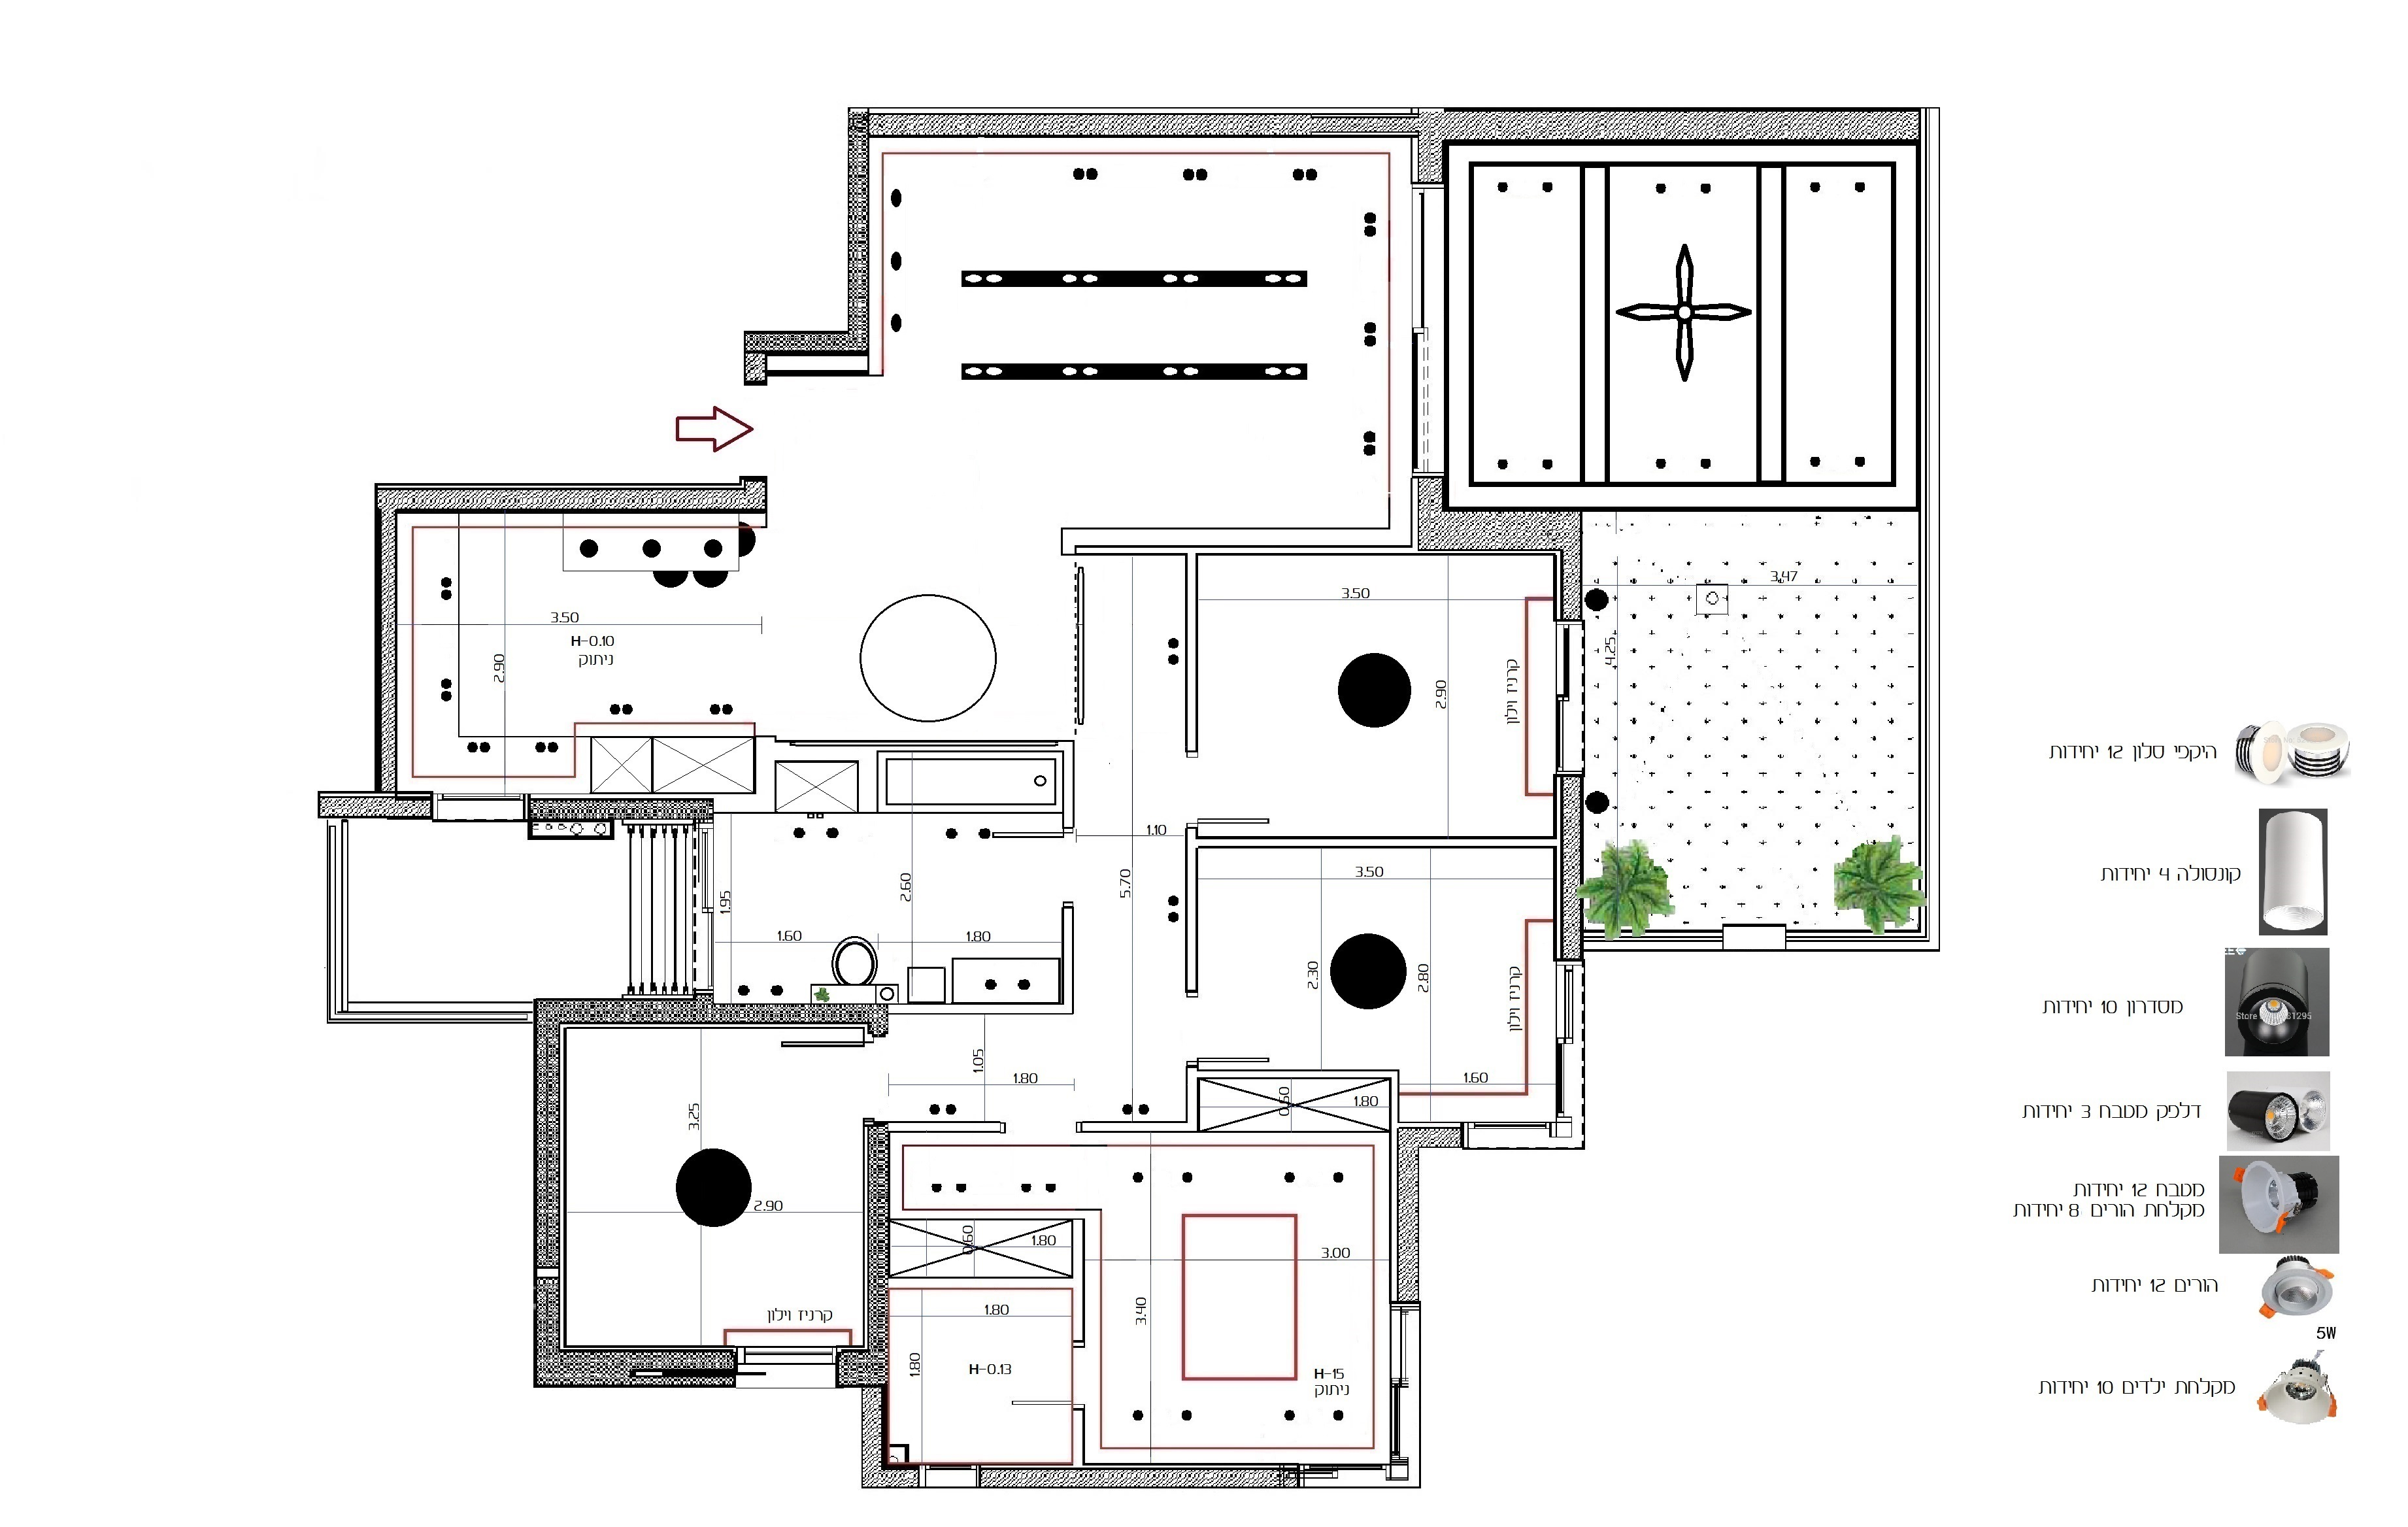wall: (376, 484, 767, 514), (534, 997, 558, 1383), (981, 1466, 1283, 1485), (867, 1122, 888, 1383), (920, 1467, 976, 1487)
